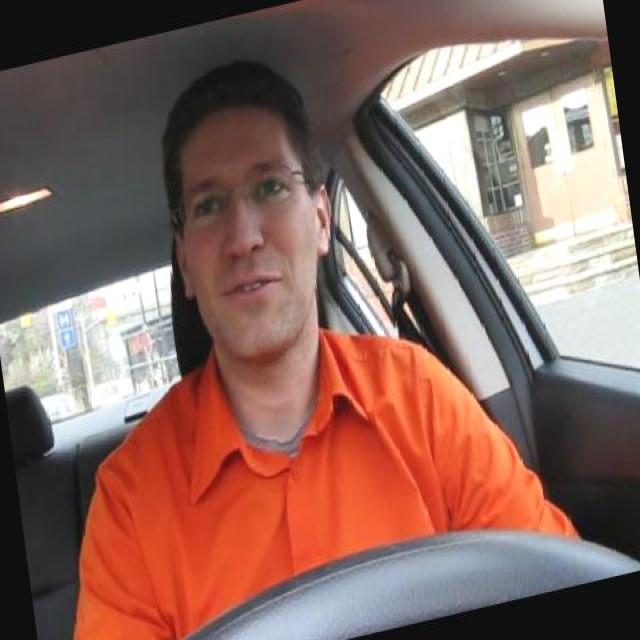no-seatbelt: (102, 413, 468, 598)
